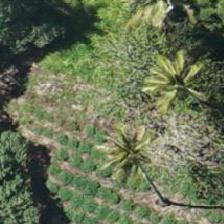coconut_tree: (131, 32, 221, 122), (113, 148, 203, 223)
